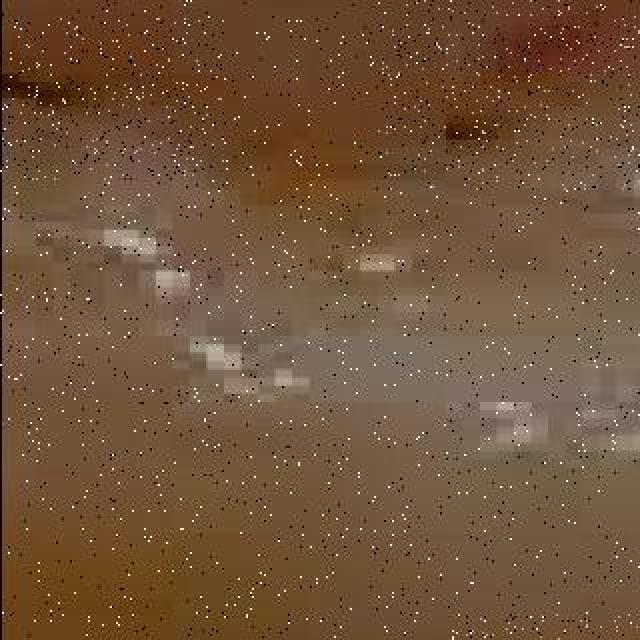cavities: (0, 574, 588, 640)
